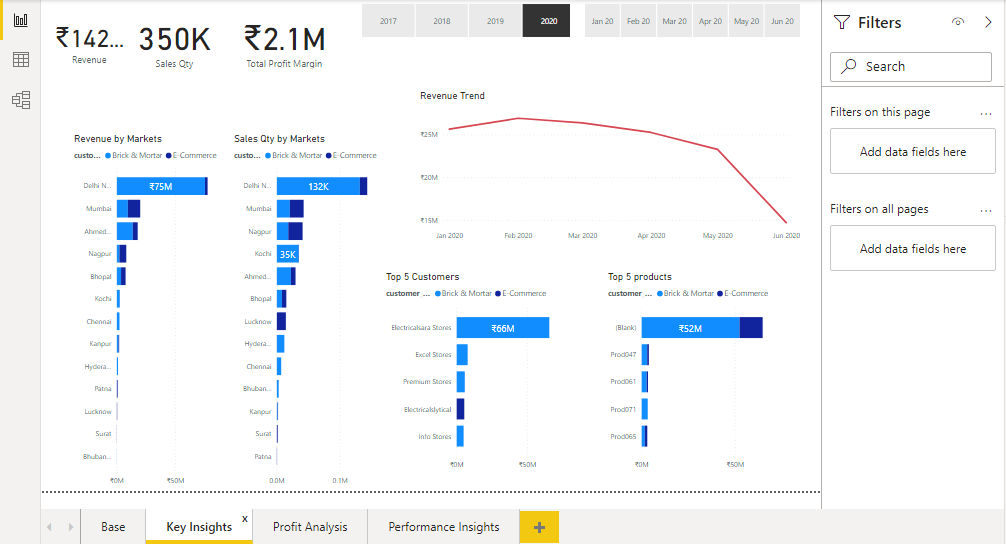

What the dashboard file says about the page in this screenshot:
{"tool":"powerbi","page":{"name":"Page 1","canvas":[1350,850],"ordinal":0},"visuals":[{"type":"card","fields":{"Values":["BaseMeasures.Revenue"]},"box":[52.1,20.2,262,211.7],"z":0},{"type":"card","fields":{"Values":["BaseMeasures.Sales Qty"]},"box":[313.6,0,278.1,230.3],"z":1000},{"type":"barChart","title":"Revenue by Markets","fields":{"Y":["BaseMeasures.Revenue"],"Category":["sales markets.markets_name"]},"box":[51.4,230.3,262.2,620.1],"z":2000},{"type":"barChart","title":"Sales Qty by Markets","fields":{"Y":["BaseMeasures.Sales Qty"],"Category":["sales markets.markets_name"]},"box":[329.5,230.3,262.2,620.1],"z":3000},{"type":"slicer","fields":{"Values":["sales date.year"]},"box":[409.3,0,526.2,70.9],"z":4000},{"type":"lineChart","title":"Revenue Trend","fields":{"Y":["BaseMeasures.Revenue"],"Category":["sales date.date.Variation.Date Hierarchy.Year","sales date.date.Variation.Date Hierarchy.Quarter","sales date.date.Variation.Date Hierarchy.Month","sales date.date.Variation.Date Hierarchy.Day"]},"box":[579.3,297.6,735.2,171.9],"z":4001},{"type":"lineChart","title":"Sales Qty Trend","fields":{"Y":["BaseMeasures.Sales Qty"],"Category":["sales date.cy_date.Variation.Date Hierarchy.Year","sales date.cy_date.Variation.Date Hierarchy.Quarter","sales date.cy_date.Variation.Date Hierarchy.Month","sales date.cy_date.Variation.Date Hierarchy.Day"]},"box":[579.3,125.8,735.2,171.9],"z":4002},{"type":"slicer","fields":{"Values":["sales date.cy_date"]},"box":[915.9,0,421.7,70.9],"z":4003},{"type":"barChart","title":"Top 5 Customers","fields":{"Y":["BaseMeasures.Revenue"],"Category":["sales customers.custmer_name"]},"box":[591.7,469.5,343.7,352.6],"z":4004},{"type":"barChart","title":"Top 5 products","fields":{"Y":["BaseMeasures.Revenue"],"Category":["sales products.product_code"]},"box":[976.2,469.5,326,352.6],"z":4005}]}

Visuals, with their boxes on the page's 1350x850 design canvas (x1, y1, x2, y2). These are canvas units, not pixel positions in the 1006x544 screenshot, which may show the page scaled, cropped or inside an application window:
card - BaseMeasures.Revenue: <bbox>52, 20, 314, 232</bbox>
card - BaseMeasures.Sales Qty: <bbox>314, 0, 592, 230</bbox>
"Revenue by Markets" barChart: <bbox>51, 230, 314, 850</bbox>
"Sales Qty by Markets" barChart: <bbox>330, 230, 592, 850</bbox>
slicer - sales date.year: <bbox>409, 0, 936, 71</bbox>
"Revenue Trend" lineChart: <bbox>579, 298, 1314, 470</bbox>
"Sales Qty Trend" lineChart: <bbox>579, 126, 1314, 298</bbox>
slicer - sales date.cy_date: <bbox>916, 0, 1338, 71</bbox>
"Top 5 Customers" barChart: <bbox>592, 470, 935, 822</bbox>
"Top 5 products" barChart: <bbox>976, 470, 1302, 822</bbox>
